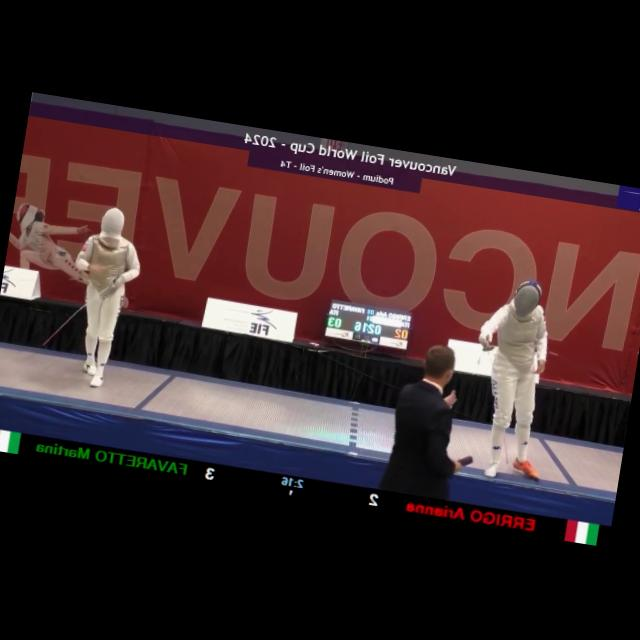blade: (464, 338, 529, 467), (40, 270, 120, 359)
